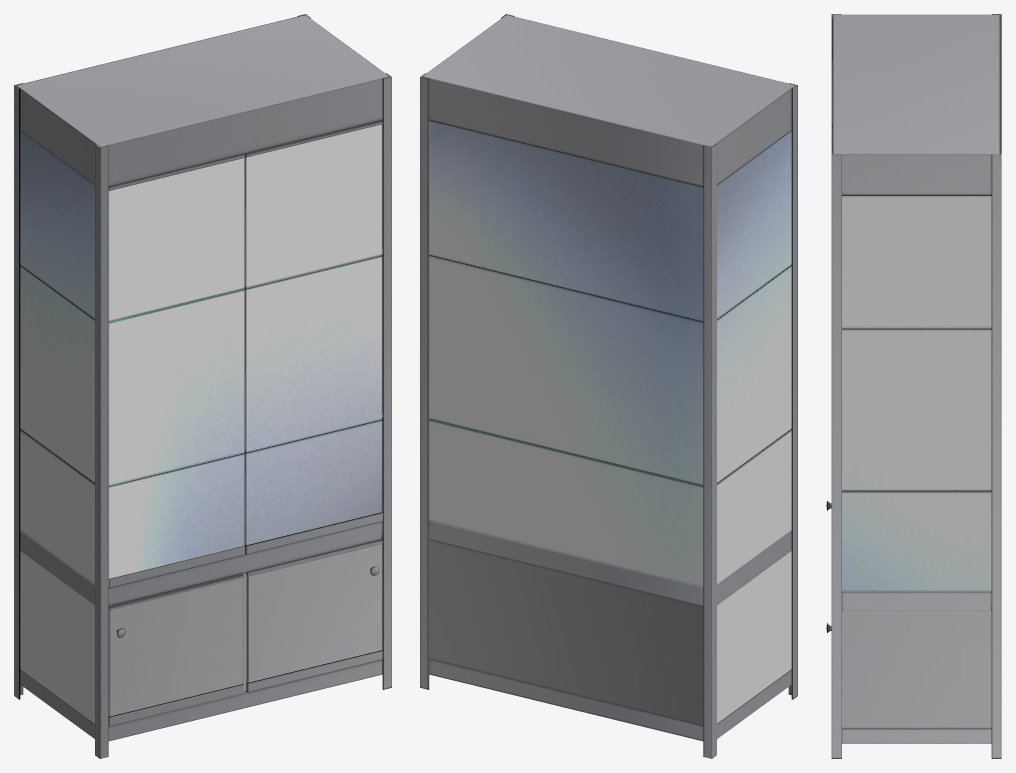
File: griante_100_aluminium_coloured_aluminium_polished.glb
3 renders of one model, left to right at view 1: azimuth 30°, elevation 25°; view 2: azimuth 150°, elevation 25°; view 3: azimuth 270°, elevation 25°, orthographic.
Visible parts, largest first — view 1: glass, Line001; view 2: glass, Line001; view 3: Line001, glass.
Boxes of the visible parts, <box> form: glass: <box>20,120,382,586</box>; Line001: <box>14,14,391,758</box>; glass: <box>429,120,791,587</box>; Line001: <box>420,14,797,758</box>; Line001: <box>826,14,1001,758</box>; glass: <box>842,195,991,591</box>.
Size of the model in its own units: 1 by 2 by 0.5266.
2 materials, 2 textured.
